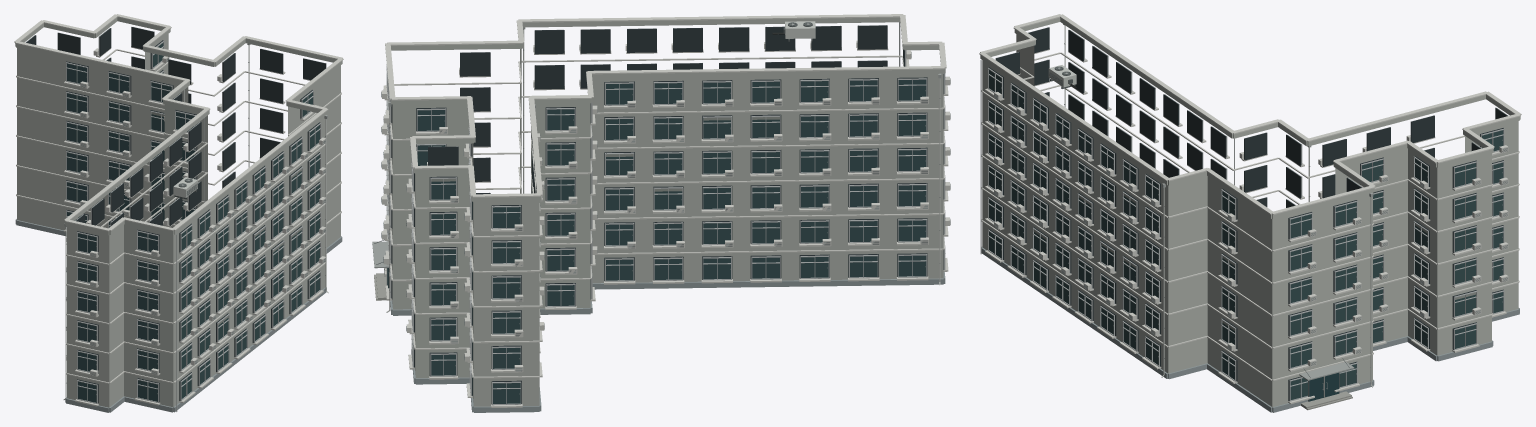
Rendered from osm_way_225255202.glb.
3 renders of one model, left to right at view 1: azimuth 30°, elevation 25°; view 2: azimuth 150°, elevation 25°; view 3: azimuth 270°, elevation 25°, orthographic. The views are drawn at different scales.
Visible parts, largest first — view 1: Architecture | 42, Windows and facade details | 42, Roof services | 42, EXTERIOR::osm_way_225255202::rainwater and roof service deta; view 2: Architecture | 42, Windows and facade details | 42, Roof services | 42, EXTERIOR::osm_way_225255202::rainwater and roof service deta, EXTERIOR::osm_way_225255202::inferred entry doors canopy and; view 3: Architecture | 42, Windows and facade details | 42, Roof services | 42, EXTERIOR::osm_way_225255202::rainwater and roof service deta, EXTERIOR::osm_way_225255202::inferred entry doors canopy and.
Part boxes in pixels (x1,y1,x2,y2): Architecture | 42: (15,17,342,412); Windows and facade details | 42: (25,27,326,411); Roof services | 42: (14,14,343,231); EXTERIOR::osm_way_225255202::rainwater and roof service deta: (63,43,328,399); Architecture | 42: (388,17,945,412); Windows and facade details | 42: (381,22,950,407); Roof services | 42: (385,14,946,197); EXTERIOR::osm_way_225255202::rainwater and roof service deta: (386,21,941,312); EXTERIOR::osm_way_225255202::inferred entry doors canopy and: (372,239,389,300); Architecture | 42: (980,17,1520,412); Windows and facade details | 42: (980,27,1508,404); Roof services | 42: (979,14,1521,214); EXTERIOR::osm_way_225255202::rainwater and roof service deta: (1048,24,1373,387); EXTERIOR::osm_way_225255202::inferred entry doors canopy and: (1299,358,1354,410).
Size of the model in its own units: 42.43 by 20.58 by 48.59.
